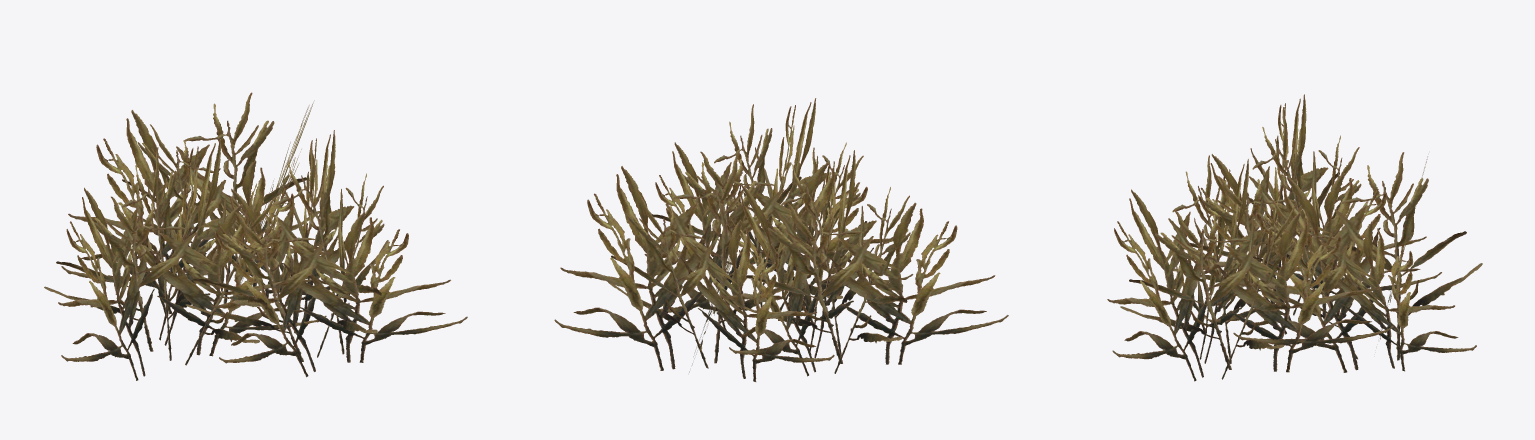
Rendered from oas_tarim_dvweed_02.glb.
The picture shows the model from 3 angles, left to right: view 1: azimuth 30°, elevation 25°; view 2: azimuth 150°, elevation 25°; view 3: azimuth 270°, elevation 25°; orthographic projection. The views are drawn at different scales.
Visible parts, largest first — view 1: Oas_tarim_DvWeed_02; view 2: Oas_tarim_DvWeed_02; view 3: Oas_tarim_DvWeed_02.
Boxes of the visible parts, x1=… form: Oas_tarim_DvWeed_02: x1=44, y1=92, x2=467, y2=380; Oas_tarim_DvWeed_02: x1=554, y1=98, x2=1008, y2=381; Oas_tarim_DvWeed_02: x1=1107, y1=94, x2=1482, y2=381.
Bounding box in the file's own units: 8.8 × 4.78 × 8.71.
1 material, 1 textured.
